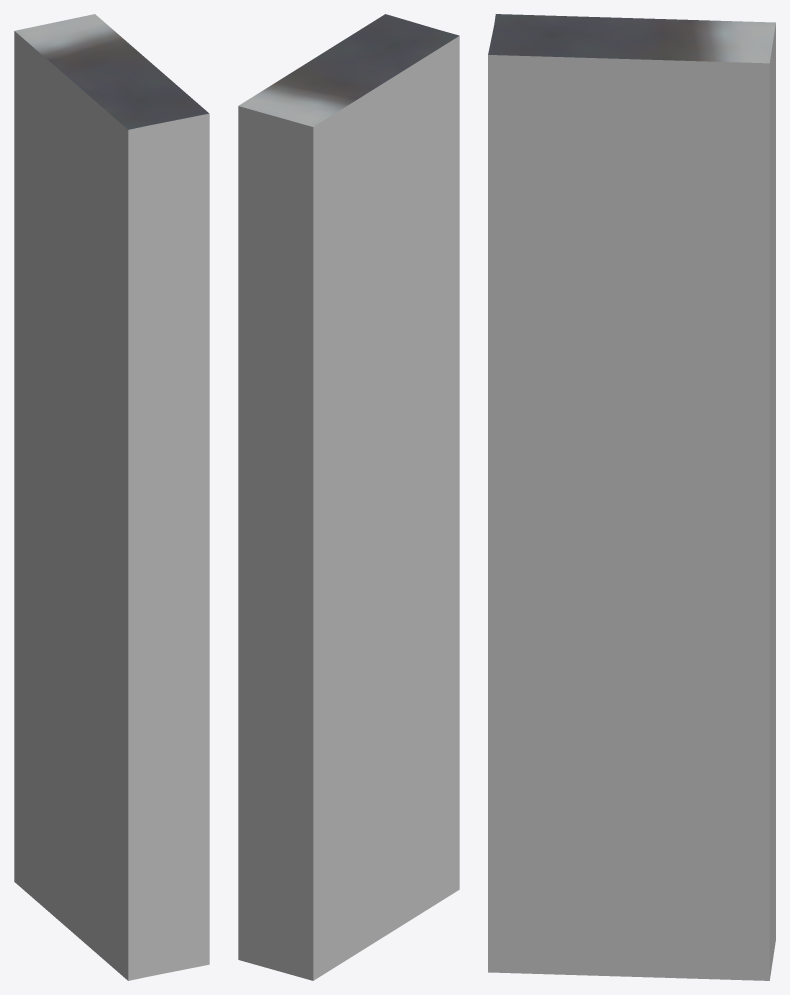
The model's file is DEBW_0010007THWb.gltf.
The picture shows the model from 3 angles, left to right: view 1: azimuth 30°, elevation 25°; view 2: azimuth 150°, elevation 25°; view 3: azimuth 270°, elevation 25°; orthographic projection. The views are drawn at different scales.
Visible parts, largest first — view 1: Z_UP; view 2: Z_UP; view 3: Z_UP.
Part boxes in pixels (x1,y1,x2,y2): Z_UP: [14, 14, 209, 980]; Z_UP: [238, 14, 459, 980]; Z_UP: [488, 14, 775, 980].
Bounding box in the file's own units: 1.51 × 13.08 × 3.72.
Materials: 2 (1 with a texture image).
